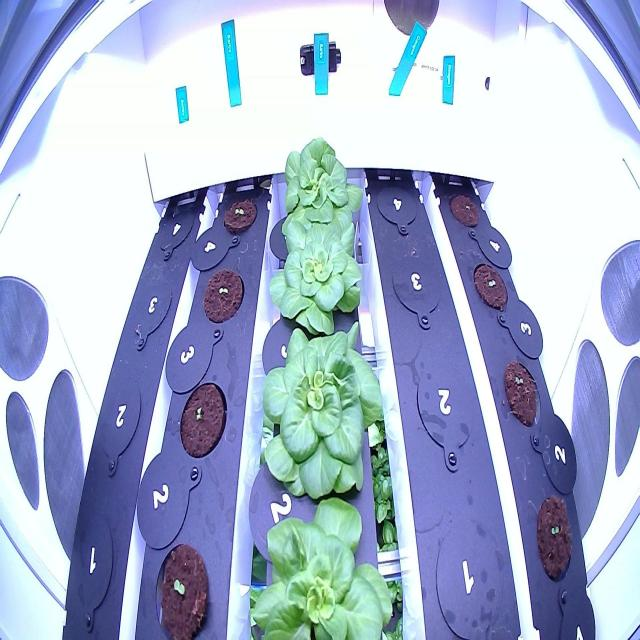empty_pod: (427, 506, 509, 639), (410, 343, 484, 475), (65, 501, 119, 638), (86, 366, 146, 486), (388, 242, 449, 338), (125, 265, 178, 357), (374, 169, 422, 241), (153, 196, 197, 264)
germination: (150, 538, 214, 640), (530, 485, 581, 590), (175, 375, 230, 464), (195, 261, 249, 334), (500, 353, 545, 433), (218, 179, 264, 249), (471, 251, 511, 317)
pod: (446, 184, 487, 232)
young: (250, 314, 400, 512), (237, 490, 400, 640), (256, 209, 376, 344), (273, 130, 378, 246)
